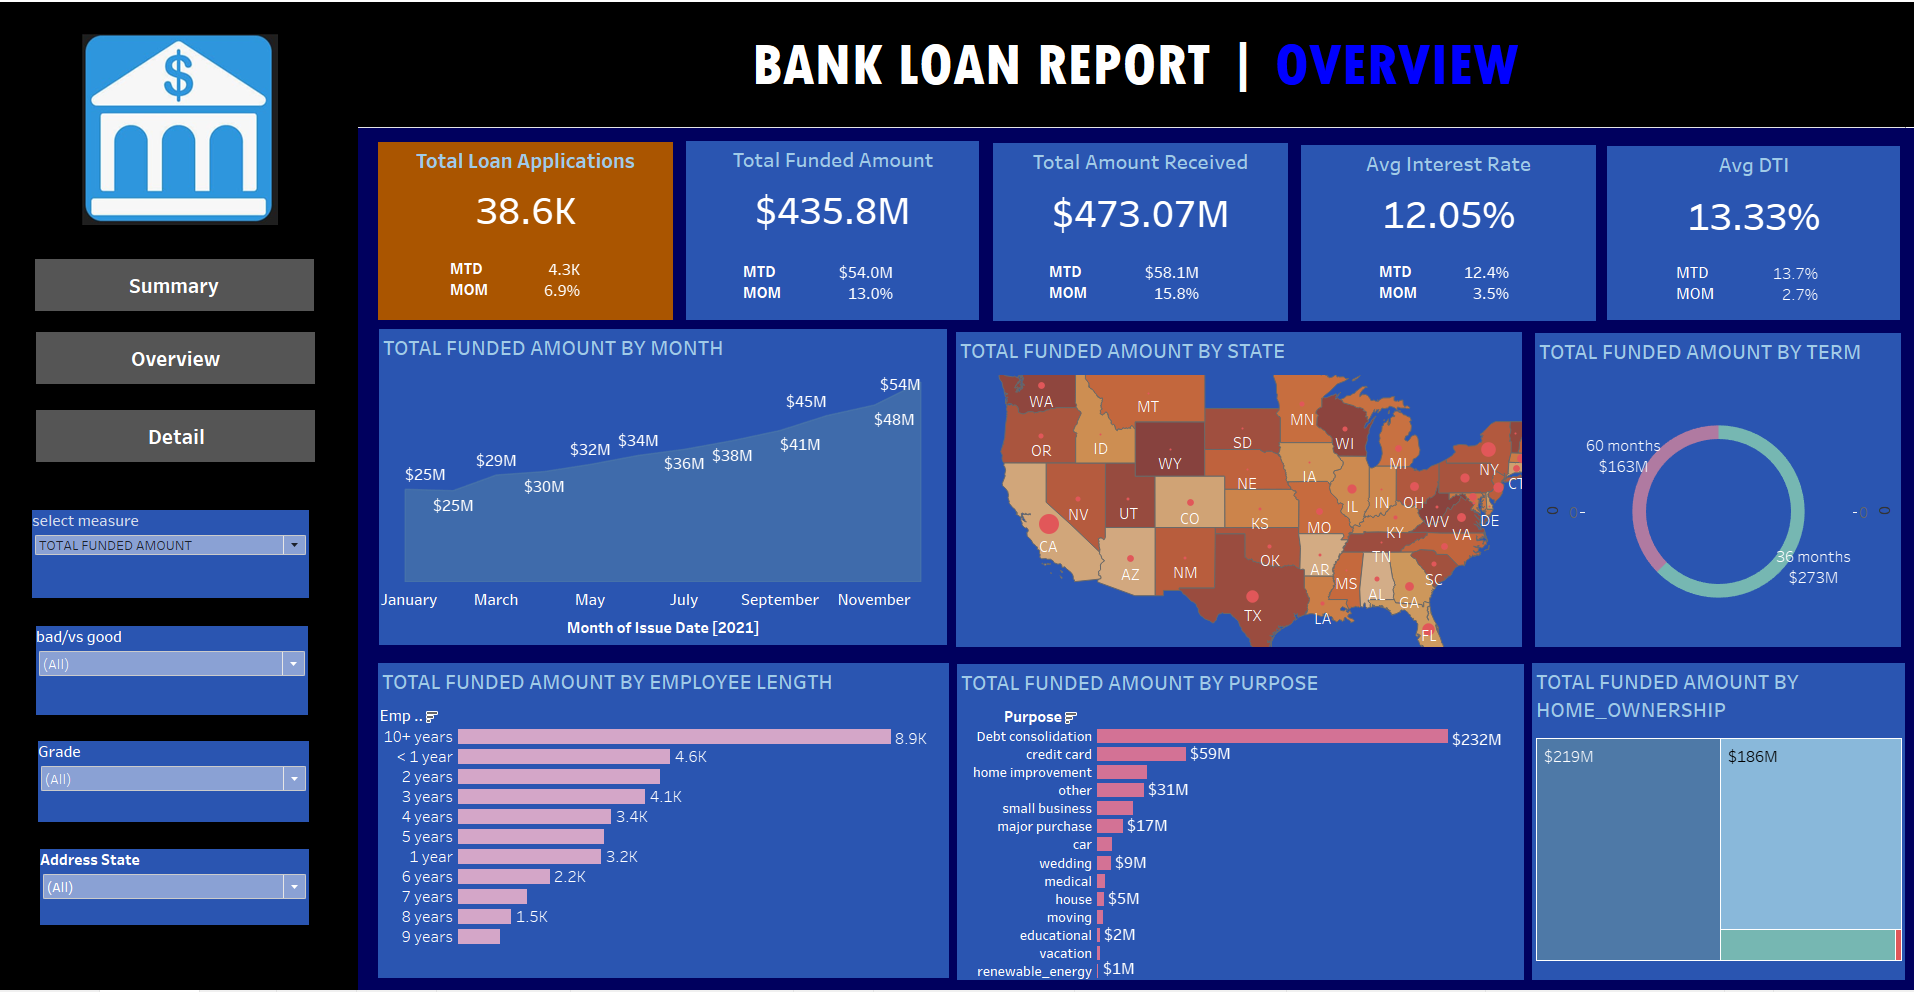

The page's visual inventory and layout, read from the dashboard file:
{"tool":"tableau","page":{"name":"overview ","canvas":[1000,1000],"units":"permille","ordinal":1},"visuals":[{"type":"text","box":[187.1,5,811.1,126.1]},{"type":"blank","box":[0,5.4,187.3,998.7]},{"type":"dashboard-object","param":"[com.tableau.addfilters].[0.0.0].[https://extensions.tableauusercontent.com/sand","box":[4.2,8.1,991.7,983.9]},{"type":"image","param":"Image/WhatsApp Image 2025-11-09 at 4.00.53 PM.jpeg","box":[43.6,37.5,102,195.5]},{"type":"worksheet","title":"Total Funded Amount","mark":"Automatic","box":[358.1,144.6,153,180.7]},{"type":"worksheet","title":"Total Loan Applications","mark":"Automatic","box":[197.8,145.9,153.6,179.4]},{"type":"worksheet","title":"Total Amount Received","mark":"Automatic","box":[518.4,147.3,153.6,179.4]},{"type":"worksheet","title":"average interest rate","mark":"Automatic","box":[678.8,148.6,153.6,178.1]},{"type":"worksheet","title":"average dti","mark":"Automatic","box":[837.8,149.9,153,175.4]},{"type":"worksheet","title":"CA MTD","mark":"Automatic","box":[232.2,247.7,110.6,119.1]},{"type":"worksheet","title":"FA MTD","mark":"Automatic","box":[385.1,250.3,162.2,148.6]},{"type":"worksheet","title":"RA MTD","mark":"Automatic","box":[544.2,250.3,113.6,111.1]},{"type":"worksheet","title":"IA","mark":"Automatic","box":[716.2,250.3,116.7,119.1]},{"type":"dashboard-object","box":[19.3,263.4,145.4,52.4]},{"type":"worksheet","title":"total applications by month","mark":"Area","rows":["Calculation_728175769120223236"],"cols":["issue_date"],"box":[198.6,334.6,295.7,318.4]},{"type":"dashboard-object","box":[19.7,337.4,145.6,52.2]},{"type":"worksheet","title":"total applications by state","mark":"Multipolygon","box":[498.8,337.4,294.8,317.3]},{"type":"worksheet","title":"total applications by term","mark":"Pie","rows":["Calculation_433471467844018181","Calculation_433471467844030471"],"box":[800.4,338.7,191,315.9]},{"type":"dashboard-object","box":[19.7,416.3,145.6,52.2]},{"type":"parameter","param":"[Parameters].[Parameter 1]","box":[17.8,516.7,144.3,88.4]},{"type":"filter","title":"Total Amount Received","param":"[federated.1su8ush0cxf9is14s6m4o15ftt9e].[none:Calculation_1176846881310265344:n","box":[19.7,633.2,141.9,89.7]},{"type":"worksheet","title":"employee length","mark":"Automatic","rows":["emp_length"],"cols":["Calculation_1467047581607776256"],"box":[198,670.4,297.5,317.1]},{"type":"worksheet","title":"total applications by ownership","mark":"Automatic","box":[799,670.4,194.3,319.6]},{"type":"worksheet","title":"total applications by purpose","mark":"Automatic","rows":["purpose"],"cols":["Calculation_728175769120223236"],"box":[499.7,671.7,295.1,318.4]},{"type":"filter","title":"Total Amount Received","param":"[federated.1su8ush0cxf9is14s6m4o15ftt9e].[none:grade:nk]","box":[20.9,749.7,141.3,81.7]},{"type":"filter","title":"total applications by month","param":"[federated.1su8ush0cxf9is14s6m4o15ftt9e].[none:address_state:nk]","box":[22.1,858.1,140.1,76.3]}]}

Visuals, with their boxes on the dashboard's canvas, which has no fixed pixel size, in thousandths of its width and height (x1, y1, x2, y2). These are canvas units, not pixel positions in the 1914x992 screenshot, which may show the page scaled, cropped or inside an application window:
text: select_region(187, 5, 998, 131)
blank: select_region(0, 5, 187, 1004)
dashboard-object: select_region(4, 8, 996, 992)
image: select_region(44, 38, 146, 233)
"Total Funded Amount" worksheet: select_region(358, 145, 511, 325)
"Total Loan Applications" worksheet: select_region(198, 146, 351, 325)
"Total Amount Received" worksheet: select_region(518, 147, 672, 327)
"average interest rate" worksheet: select_region(679, 149, 832, 327)
"average dti" worksheet: select_region(838, 150, 991, 325)
"CA MTD" worksheet: select_region(232, 248, 343, 367)
"FA MTD" worksheet: select_region(385, 250, 547, 399)
"RA MTD" worksheet: select_region(544, 250, 658, 361)
"IA" worksheet: select_region(716, 250, 833, 369)
dashboard-object: select_region(19, 263, 165, 316)
"total applications by month" worksheet (Area marks): select_region(199, 335, 494, 653)
dashboard-object: select_region(20, 337, 165, 390)
"total applications by state" worksheet (Multipolygon marks): select_region(499, 337, 794, 655)
"total applications by term" worksheet (Pie marks): select_region(800, 339, 991, 655)
dashboard-object: select_region(20, 416, 165, 468)
parameter: select_region(18, 517, 162, 605)
"Total Amount Received" filter: select_region(20, 633, 162, 723)
"employee length" worksheet: select_region(198, 670, 496, 988)
"total applications by ownership" worksheet: select_region(799, 670, 993, 990)
"total applications by purpose" worksheet: select_region(500, 672, 795, 990)
"Total Amount Received" filter: select_region(21, 750, 162, 831)
"total applications by month" filter: select_region(22, 858, 162, 934)
